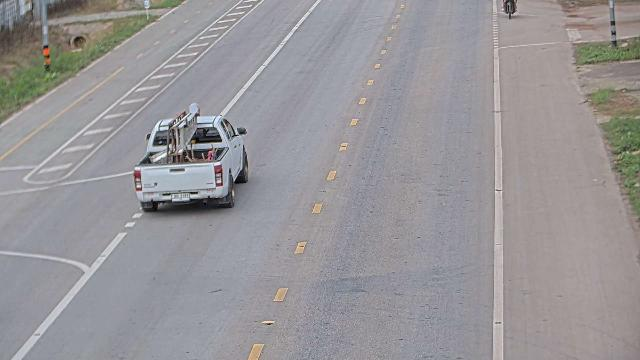pickup-truck: (132, 103, 249, 212)
